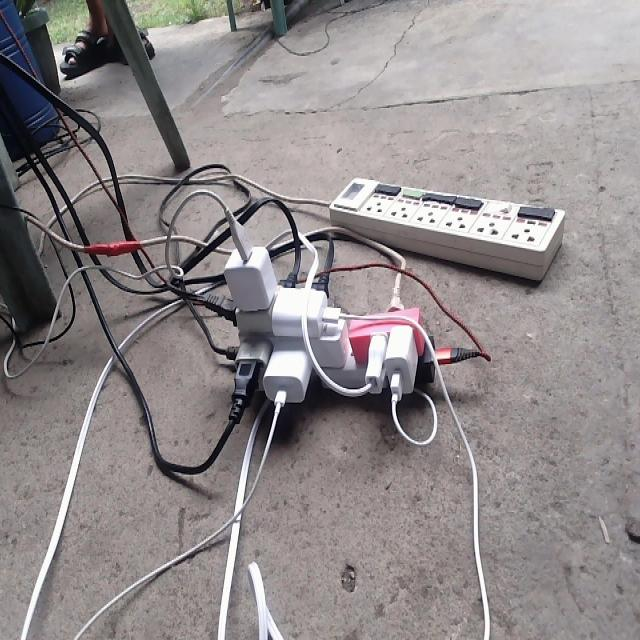-: (212, 239, 442, 432)
